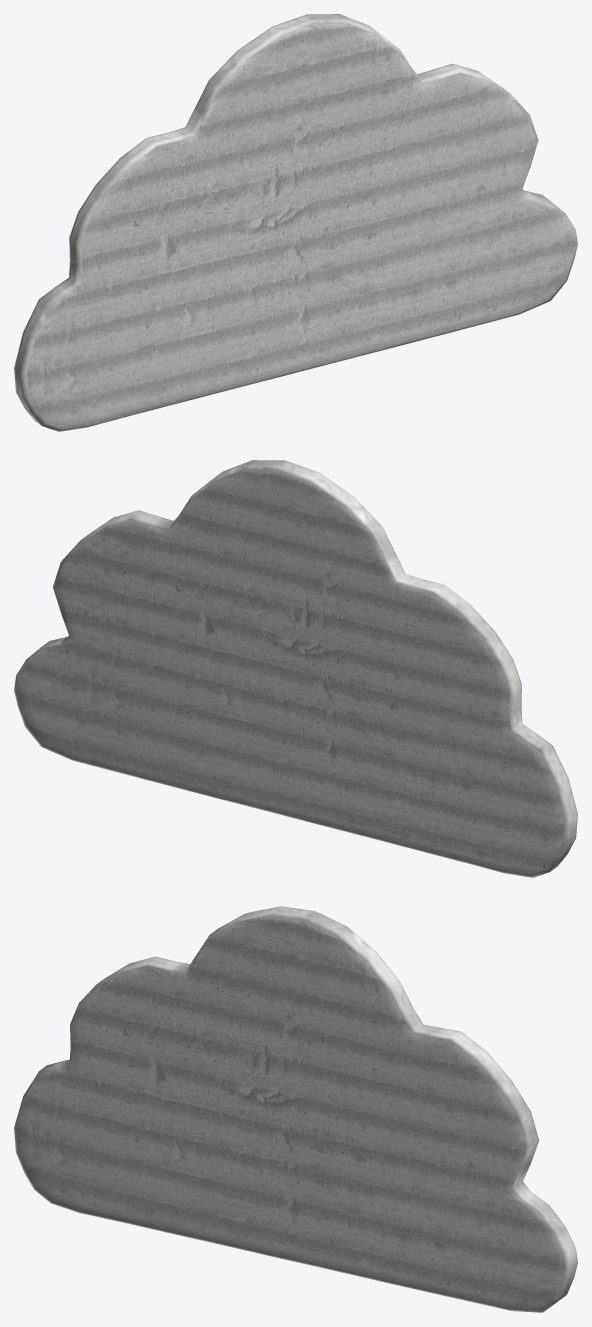
The model's file is nuvola3.fbx.
The picture shows the model from 3 angles, top to bottom: view 1: azimuth 30°, elevation 25°; view 2: azimuth 150°, elevation 25°; view 3: azimuth 330°, elevation 25°; orthographic projection.
Visible parts, largest first — view 1: nuvola3; view 2: nuvola3; view 3: nuvola3.
Boxes of the visible parts, x1=… form: nuvola3: x1=14, y1=14, x2=577, y2=431; nuvola3: x1=14, y1=460, x2=577, y2=877; nuvola3: x1=14, y1=906, x2=577, y2=1312.
Bounding box in the file's own units: 141 × 85.28 × 5.12.
Materials: 1 (1 with a texture image).
